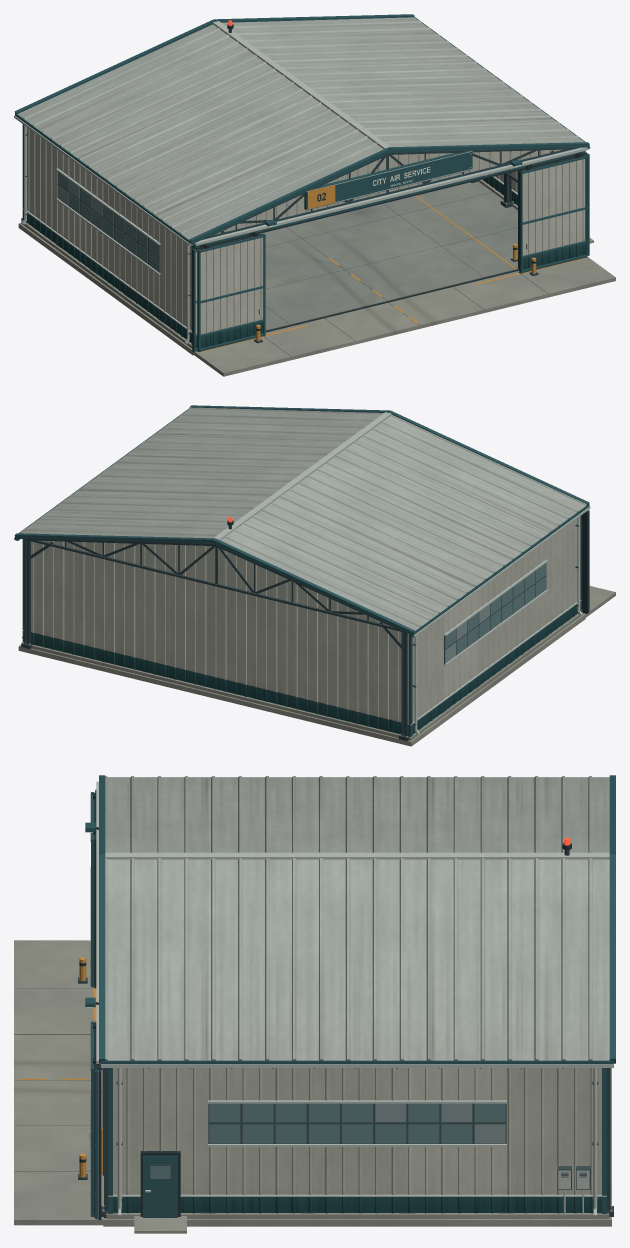
Rendered from Hangar-02-LOD1.glb.
3 views of the same model, one above another, from view 1: azimuth 30°, elevation 25°; view 2: azimuth 150°, elevation 25°; view 3: azimuth 270°, elevation 25° (orthographic). The views are drawn at different scales.
Parts seen in each view (by area): view 1: Gabled roof, ridge, rake flashings and gutters, Plinth, threshold and approach, West elevation | ribbon windows, Left sliding leaf 2, Right sliding leaf 2, Bay headrail, jambs and threshold, Enamel air service sign, Back and front gable skins, Frame 01 | portal and Warren truss, Rainwater and electrical service, Left sliding leaf 1, East elevation | ribbon windows; view 2: Gabled roof, ridge, rake flashings and gutters, Back and front gable skins, West elevation | ribbon windows, Frame 06 | portal and Warren truss, Plinth, threshold and approach, Left sliding leaf 1, Rainwater and electrical service; view 3: Gabled roof, ridge, rake flashings and gutters, East elevation | ribbon windows, Plinth, threshold and approach, Rainwater and electrical service, Left sliding leaf 2, Bay headrail, jambs and threshold, Right sliding leaf 2, Right sliding leaf 1, Frame 01 | portal and Warren truss, Frame 06 | portal and Warren truss.
Part boxes in pixels (<box>): Gabled roof, ridge, rake flashings and gutters: <box>14,14,590,246</box>; Plinth, threshold and approach: <box>18,181,615,376</box>; West elevation | ribbon windows: <box>21,124,194,348</box>; Left sliding leaf 2: <box>197,232,265,352</box>; Right sliding leaf 2: <box>519,153,587,273</box>; Bay headrail, jambs and threshold: <box>192,147,587,332</box>; Enamel air service sign: <box>304,150,472,210</box>; Back and front gable skins: <box>22,149,562,234</box>; Frame 01 | portal and Warren truss: <box>203,148,577,239</box>; Rainwater and electrical service: <box>22,125,593,343</box>; Left sliding leaf 1: <box>192,232,260,351</box>; East elevation | ribbon windows: <box>478,171,517,209</box>; Gabled roof, ridge, rake flashings and gutters: <box>14,405,590,637</box>; Back and front gable skins: <box>31,540,410,740</box>; West elevation | ribbon windows: <box>408,515,582,740</box>; Frame 06 | portal and Warren truss: <box>21,539,412,741</box>; Plinth, threshold and approach: <box>18,586,615,746</box>; Left sliding leaf 1: <box>581,510,589,613</box>; Rainwater and electrical service: <box>22,516,582,734</box>; Gabled roof, ridge, rake flashings and gutters: <box>99,775,615,1068</box>; East elevation | ribbon windows: <box>106,1068,608,1218</box>; Plinth, threshold and approach: <box>14,940,611,1226</box>; Rainwater and electrical service: <box>78,957,598,1233</box>; Left sliding leaf 2: <box>89,792,96,988</box>; Bay headrail, jambs and threshold: <box>96,781,109,1217</box>; Right sliding leaf 2: <box>89,1021,97,1217</box>; Right sliding leaf 1: <box>95,1064,102,1220</box>; Frame 01 | portal and Warren truss: <box>101,1068,116,1216</box>; Frame 06 | portal and Warren truss: <box>598,1068,613,1216</box>.
Size of the model in its own units: 22 by 8.59 by 18.89.
Materials: 21 (6 with a texture image).
